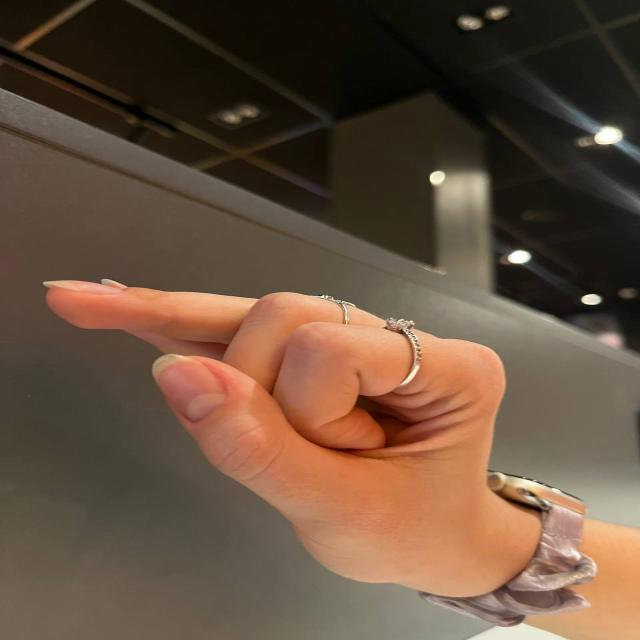i-: (26, 235, 518, 565)
